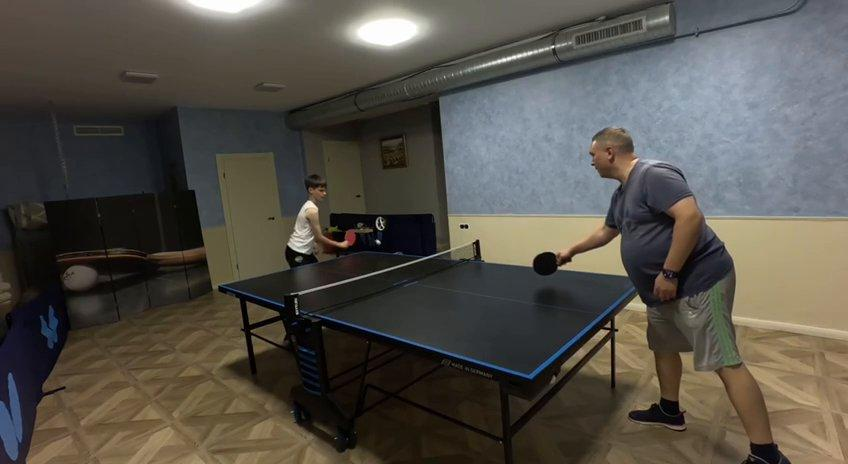Ball: (375, 238, 382, 246)
Net: (282, 241, 482, 320)
Player1: (285, 174, 354, 267)
Player2: (558, 128, 790, 463)
Table: (218, 251, 640, 380)
